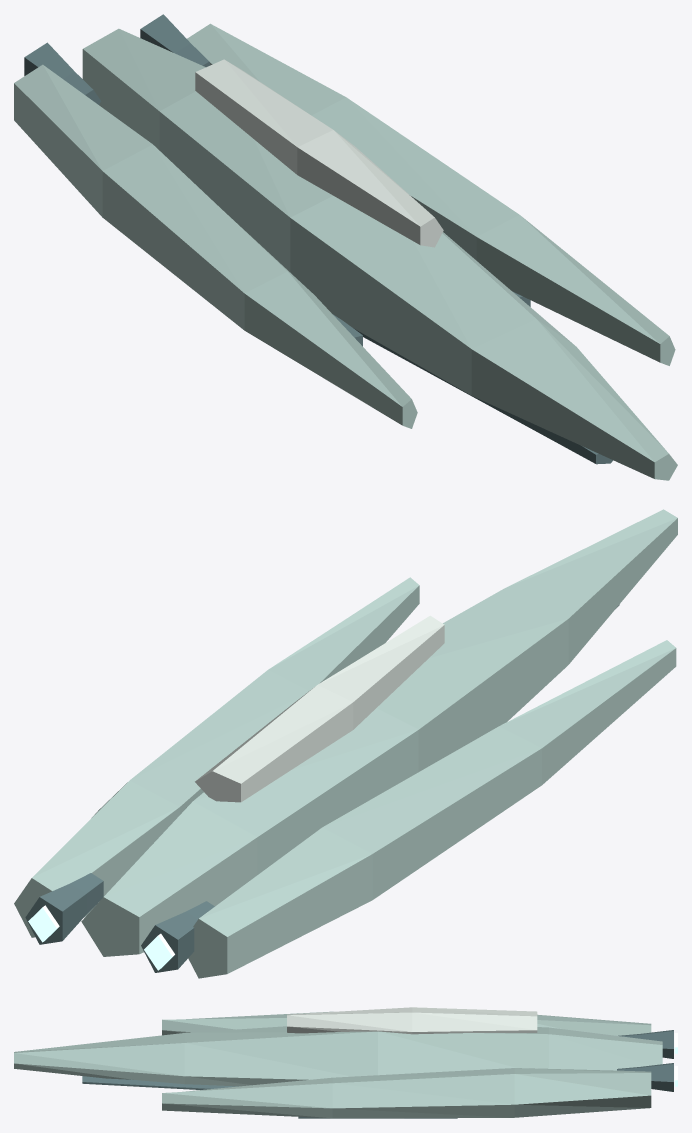
3 views of the same model, one above another, from view 1: azimuth 30°, elevation 25°; view 2: azimuth 150°, elevation 25°; view 3: azimuth 270°, elevation 25° (orthographic). The views are drawn at different scales.
Bounding box in the file's own units: 7.28 × 3.37 × 23.78.
